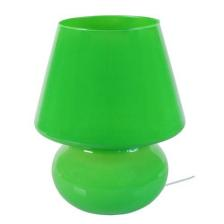green: (35, 16, 185, 215)
